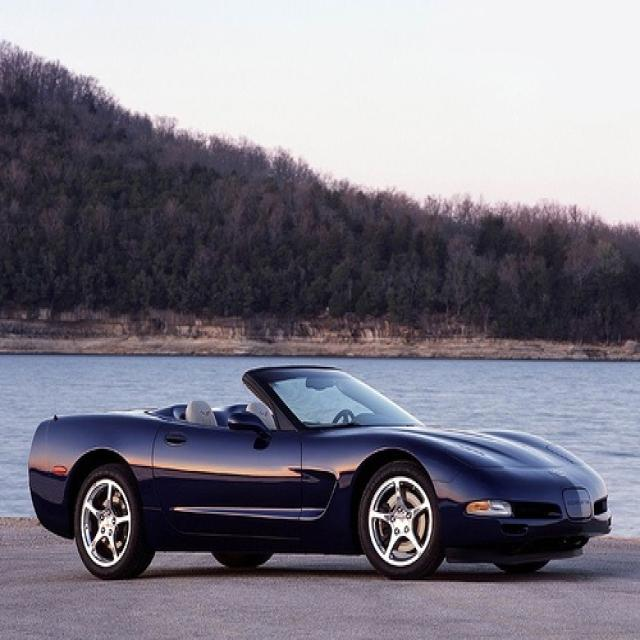car: (27, 366, 614, 586)
